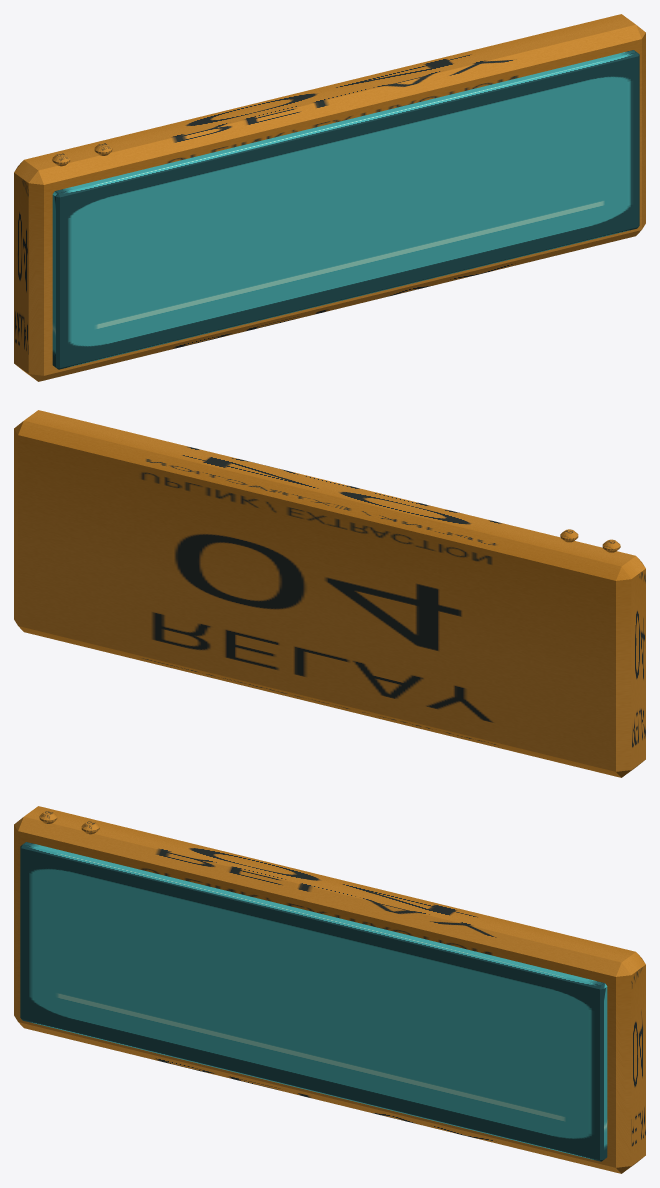
Rendered from sign_cargo_LOD0.obj.
The picture shows the model from 3 angles, top to bottom: view 1: azimuth 30°, elevation 25°; view 2: azimuth 150°, elevation 25°; view 3: azimuth 330°, elevation 25°; orthographic projection.
Visible parts, largest first — view 1: L02_sign_cargo_LOD0; view 2: L02_sign_cargo_LOD0; view 3: L02_sign_cargo_LOD0.
Part boxes in pixels (x1,y1,x2,y2): L02_sign_cargo_LOD0: (14,14,645,381); L02_sign_cargo_LOD0: (14,410,645,777); L02_sign_cargo_LOD0: (14,806,645,1173).
Size of the model in its own units: 2.2 by 0.75 by 0.2.
Materials: 1 (1 with a texture image).
